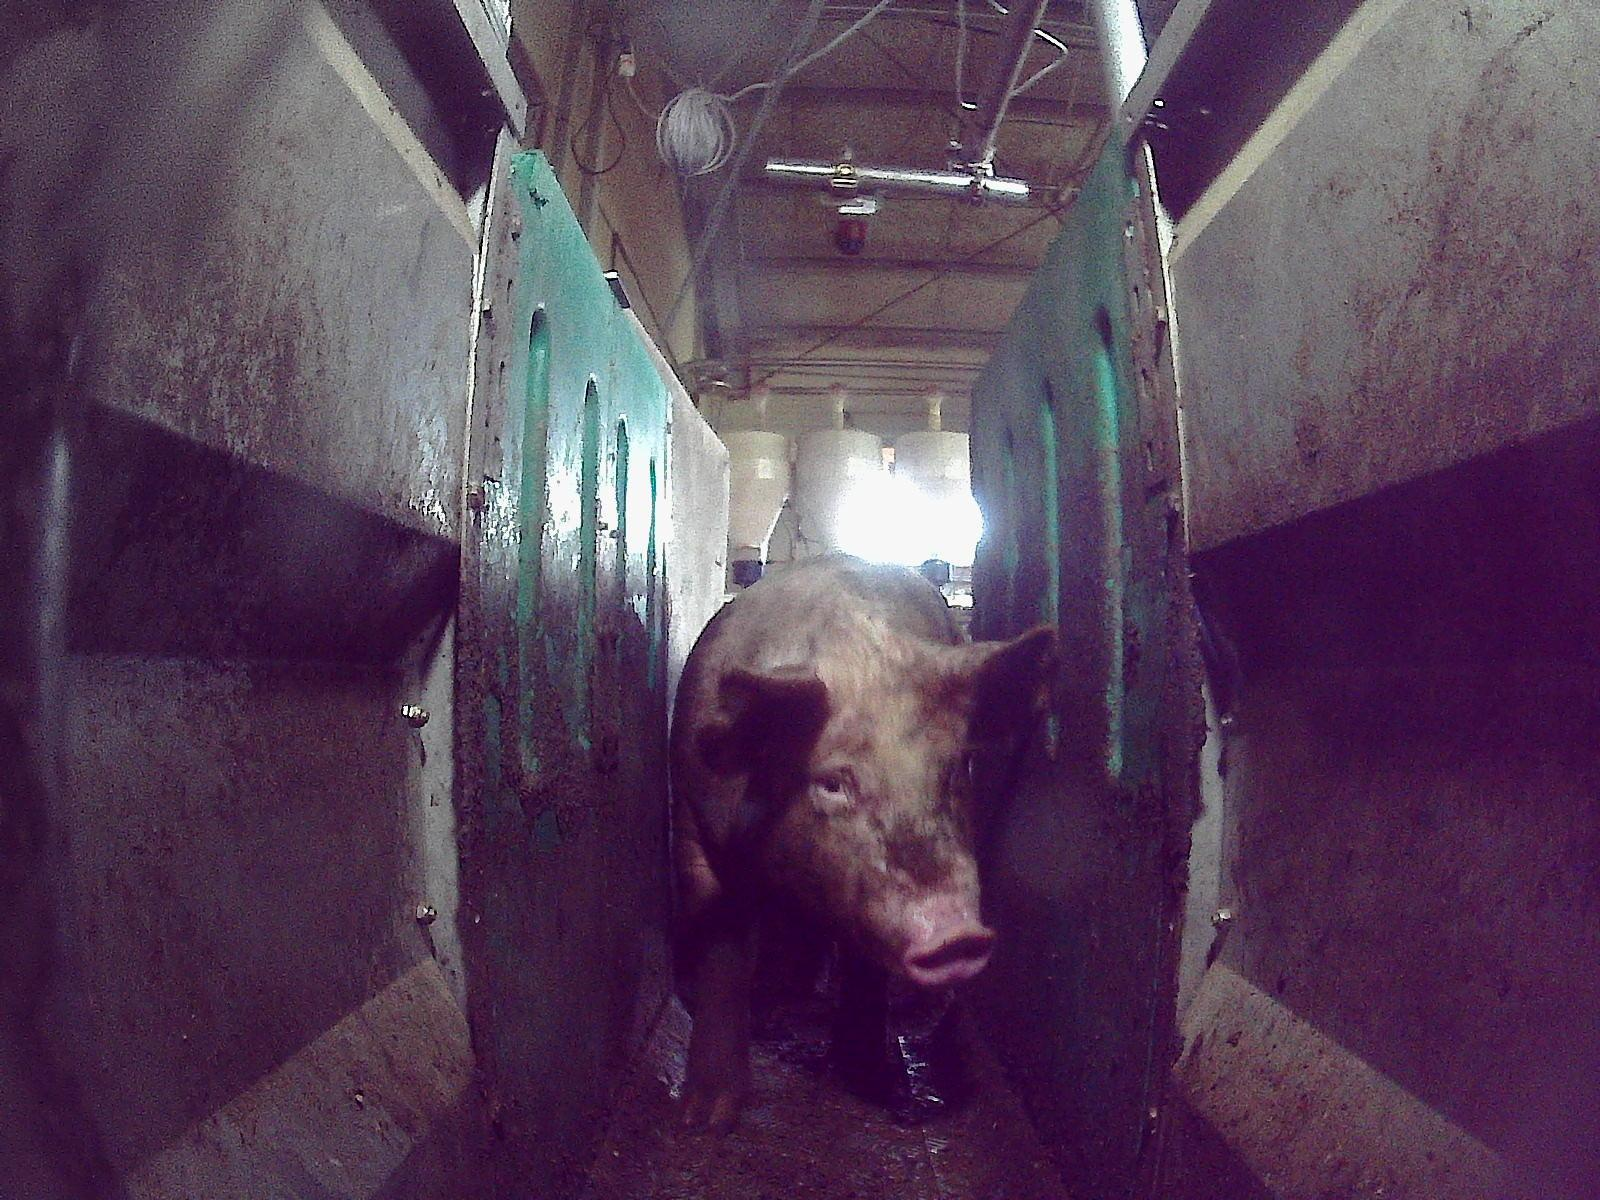Face: (750, 669, 995, 986)
